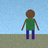person: (22, 10, 39, 39)
